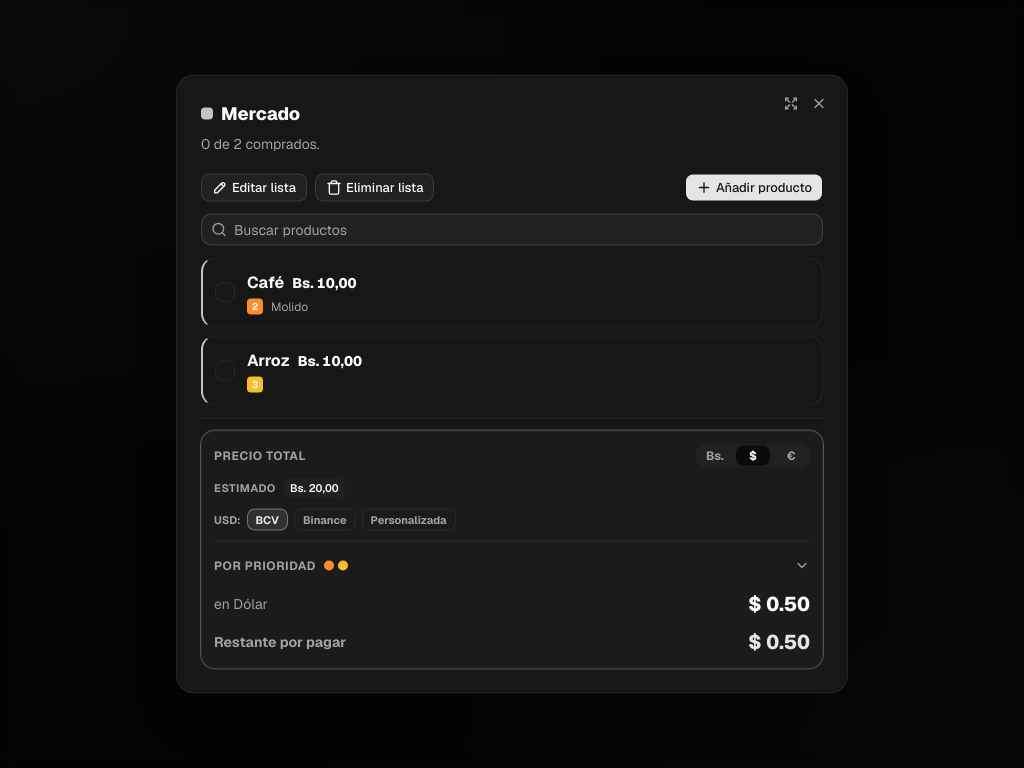
Test: ShoppingListDetailDialog — buscador de productos › sin coincidencias muestra el texto buscado
Type "leche" into the search field labelled "Buscar productos".
click(512, 230); type("leche")  # box top-left (201, 214), bottom-right (823, 246)
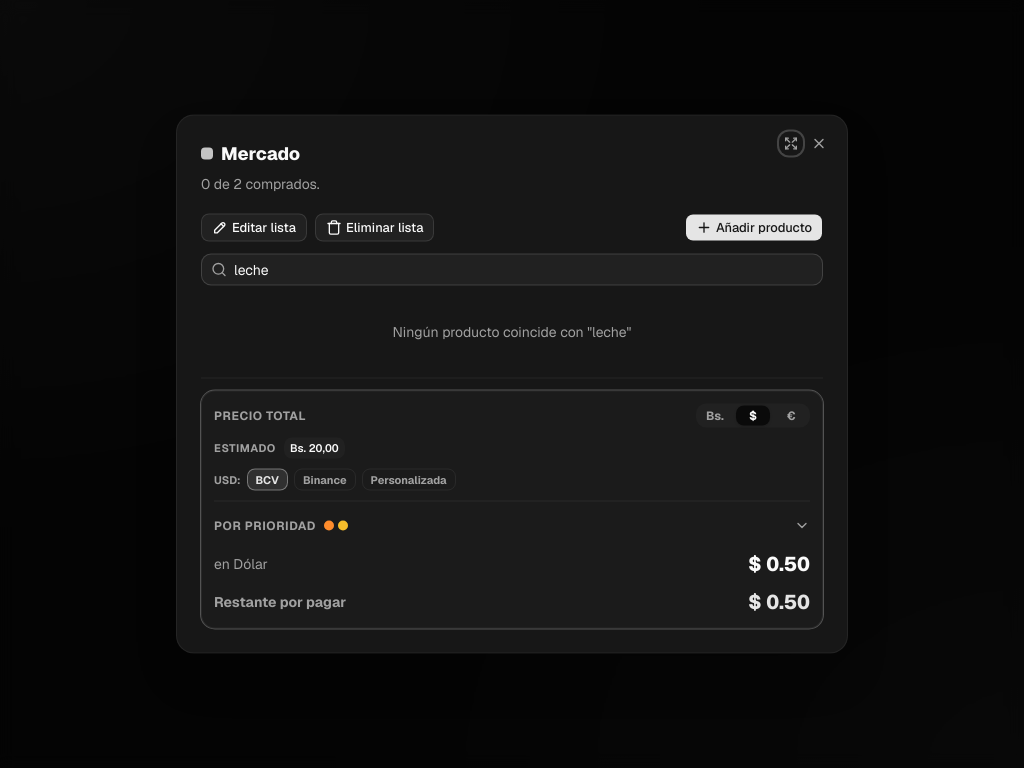
Expected: the text "Ningún producto coincide con \"leche\"" is shown, top-left (393, 322), bottom-right (631, 340)
